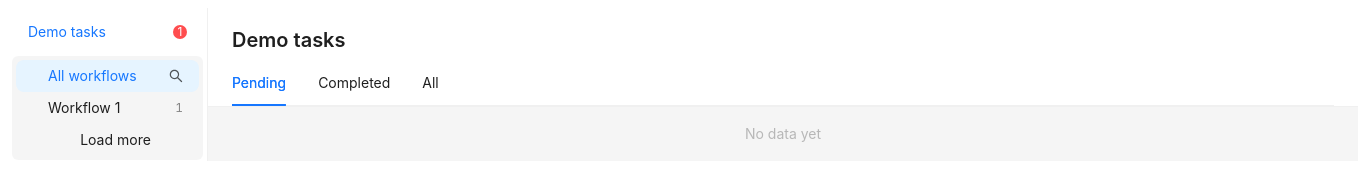
WorkflowTasksPage › searches and incrementally loads workflow groups
The width and height of the screenshot is (1366, 178).
Click the menu item "Load more".
click(116, 140)  # box [80, 131, 151, 148]
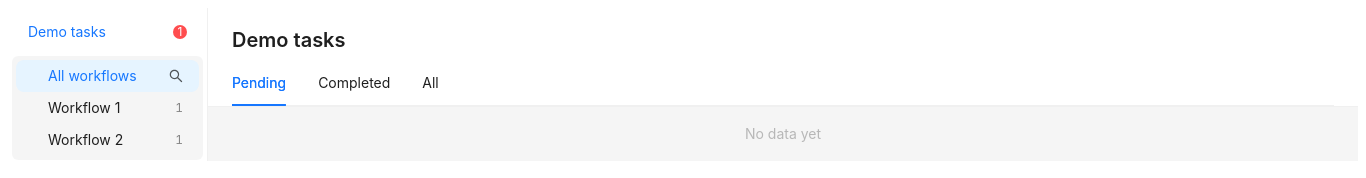
Now the text "Workflow 2" is shown, box [48, 131, 123, 148]
Click the button named "Search workflows".
click(171, 76)  # box [159, 64, 183, 88]
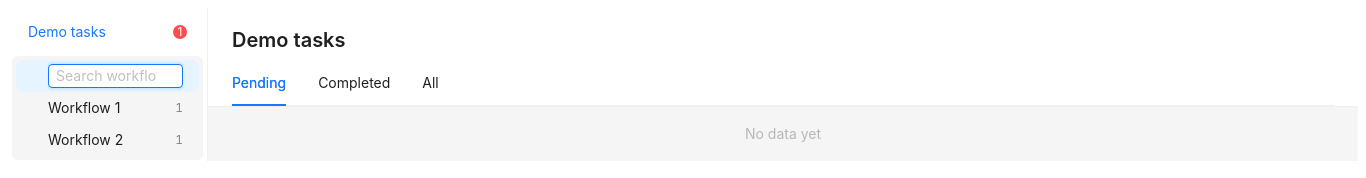
Type "Searched" into the field labelled "Search workflows".
click(106, 76); type("Searched")  # box [56, 65, 157, 87]
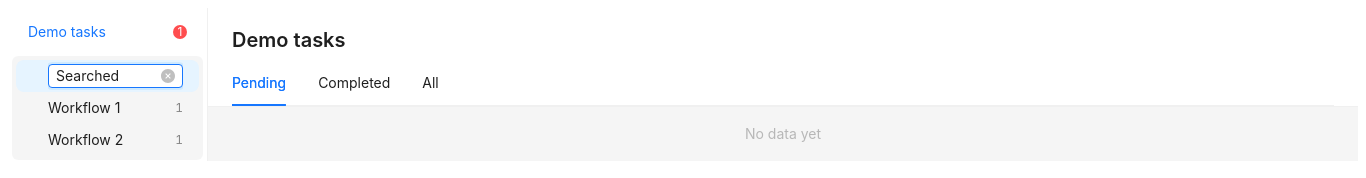
Submit the menu item named "Search workflows", box [16, 60, 199, 92]
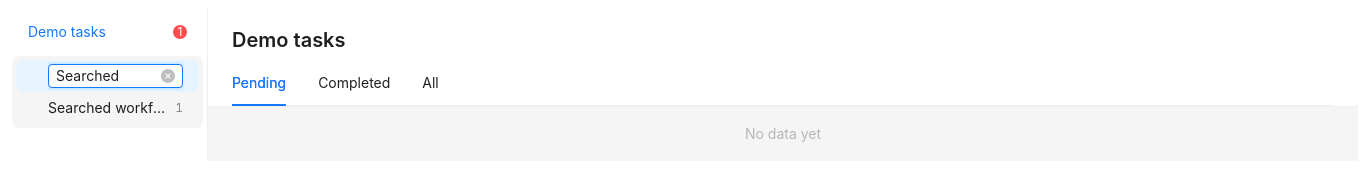
Now the text "Searched workflow" is shown, box [48, 99, 176, 116]
